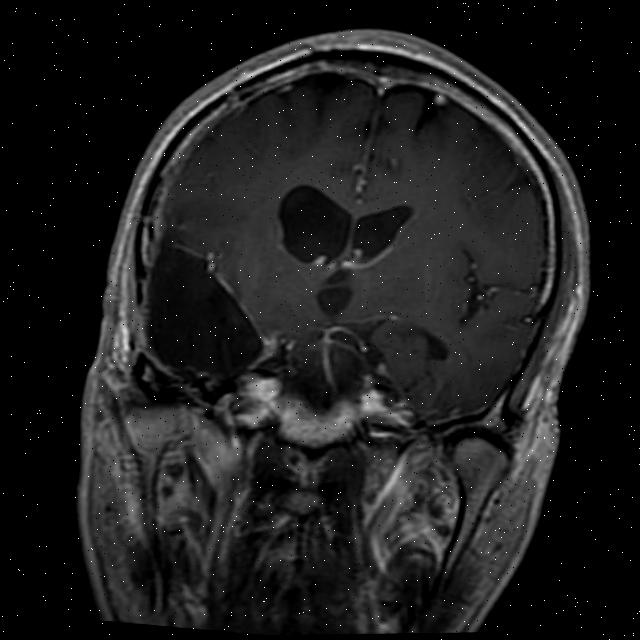Glioma: (134, 223, 283, 386)
Pituitary: (272, 391, 360, 453)
